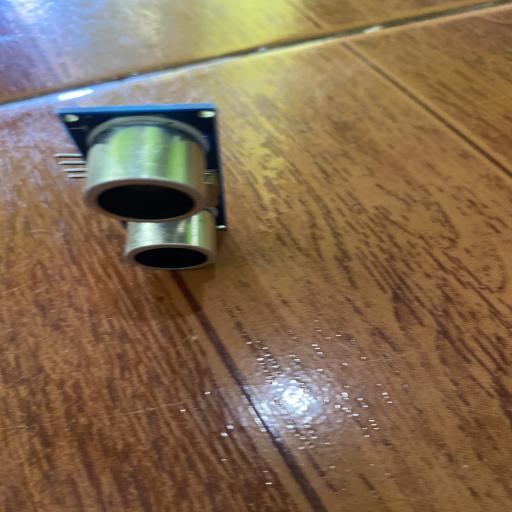Ultrasonic Sensor: (52, 102, 228, 270)
